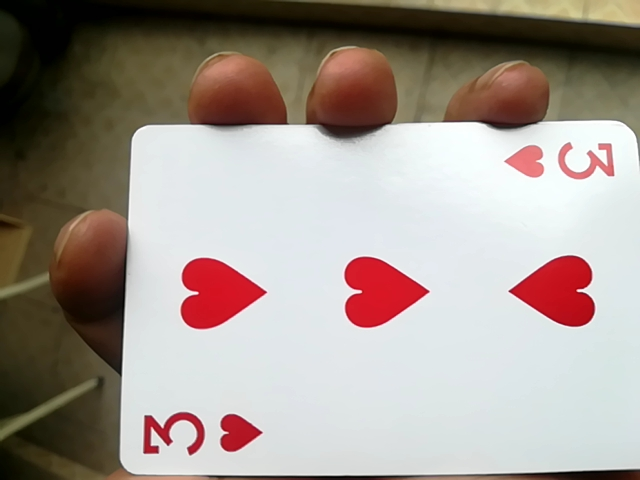hx 3: (101, 129, 632, 480)
